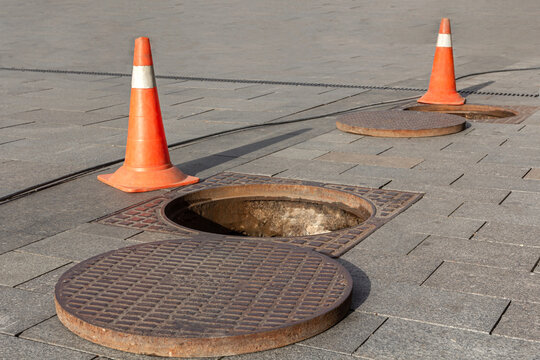Open_manhole: (48, 183, 422, 358), (336, 102, 534, 152)
Road_cone: (93, 36, 210, 193), (416, 16, 470, 106)
